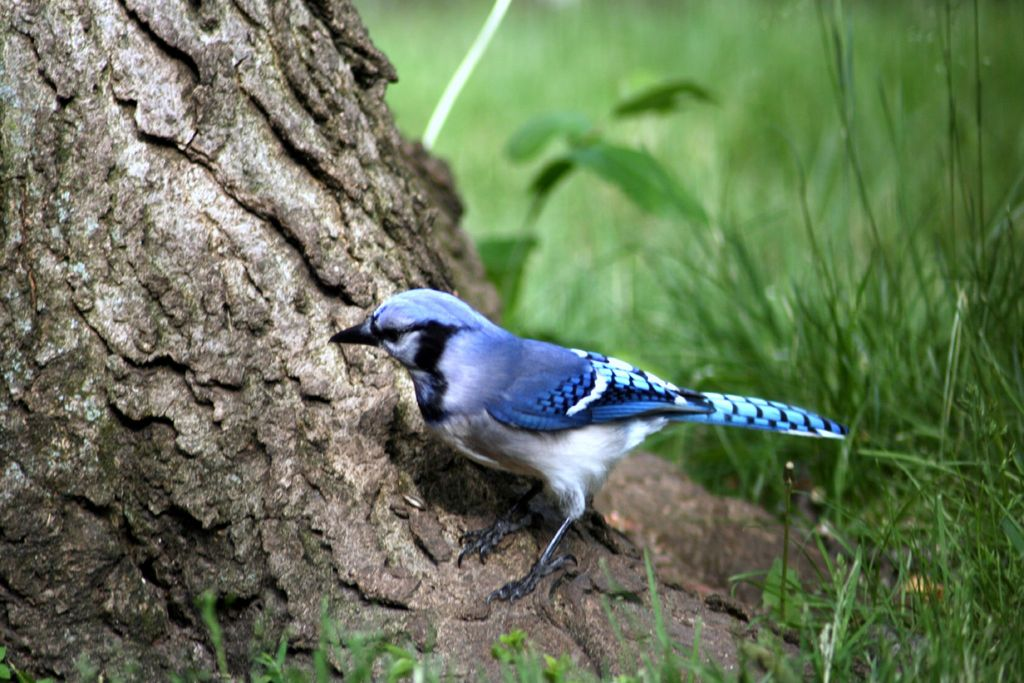Tree: (0, 0, 926, 681)
